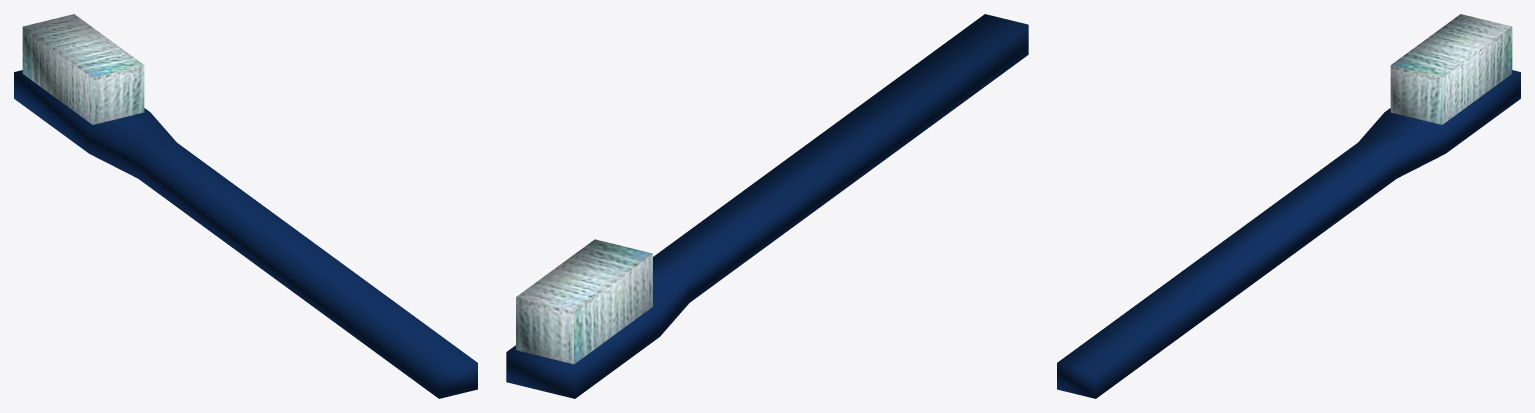
Rendered from Toothbrush_01.glb.
The picture shows the model from 3 angles, left to right: view 1: azimuth 30°, elevation 25°; view 2: azimuth 150°, elevation 25°; view 3: azimuth 330°, elevation 25°; orthographic projection. The views are drawn at different scales.
Parts seen in each view (by area): view 1: Toothbrush_01; view 2: Toothbrush_01; view 3: Toothbrush_01.
Part boxes in pixels (bbox=[...]): Toothbrush_01: bbox=[14, 14, 477, 398]; Toothbrush_01: bbox=[506, 14, 1028, 398]; Toothbrush_01: bbox=[1057, 14, 1520, 398].
Bounding box in the file's own units: 0.0165 × 0.019 × 0.1932.
Materials: 1 (1 with a texture image).
